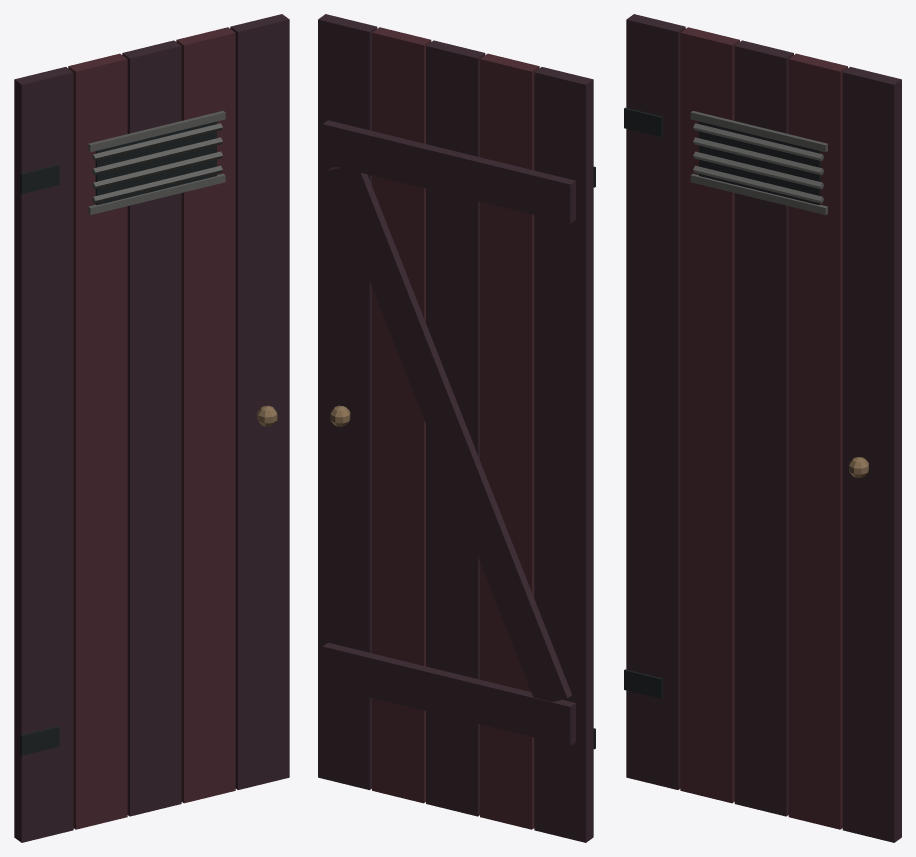
File: usa_debara.glb
3 renders of one model, left to right at view 1: azimuth 30°, elevation 25°; view 2: azimuth 150°, elevation 25°; view 3: azimuth 330°, elevation 25°, orthographic.
Parts seen in each view (by area): view 1: Usa; view 2: Usa; view 3: Usa.
Boxes of the visible parts, x1,y1,x2,y2 form: Usa: [14, 14, 289, 842]; Usa: [318, 14, 595, 842]; Usa: [624, 14, 901, 842].
Size of the model in its own units: 0.717 by 1.93 by 0.1426.
